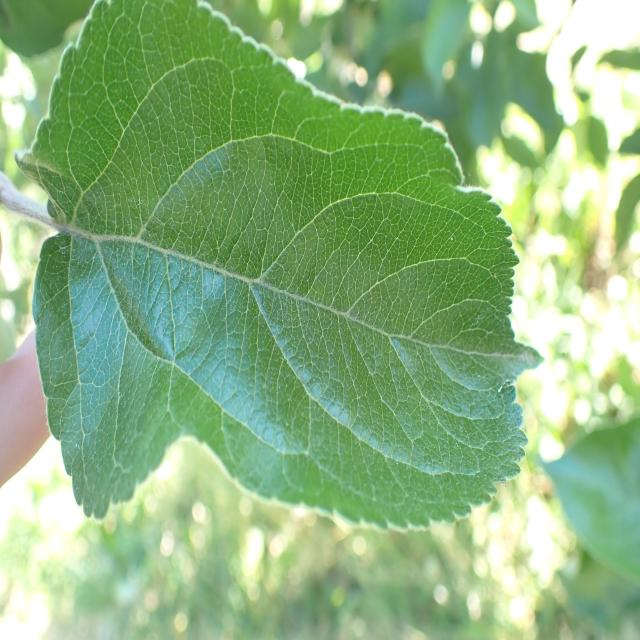healthy: (14, 2, 546, 536)
